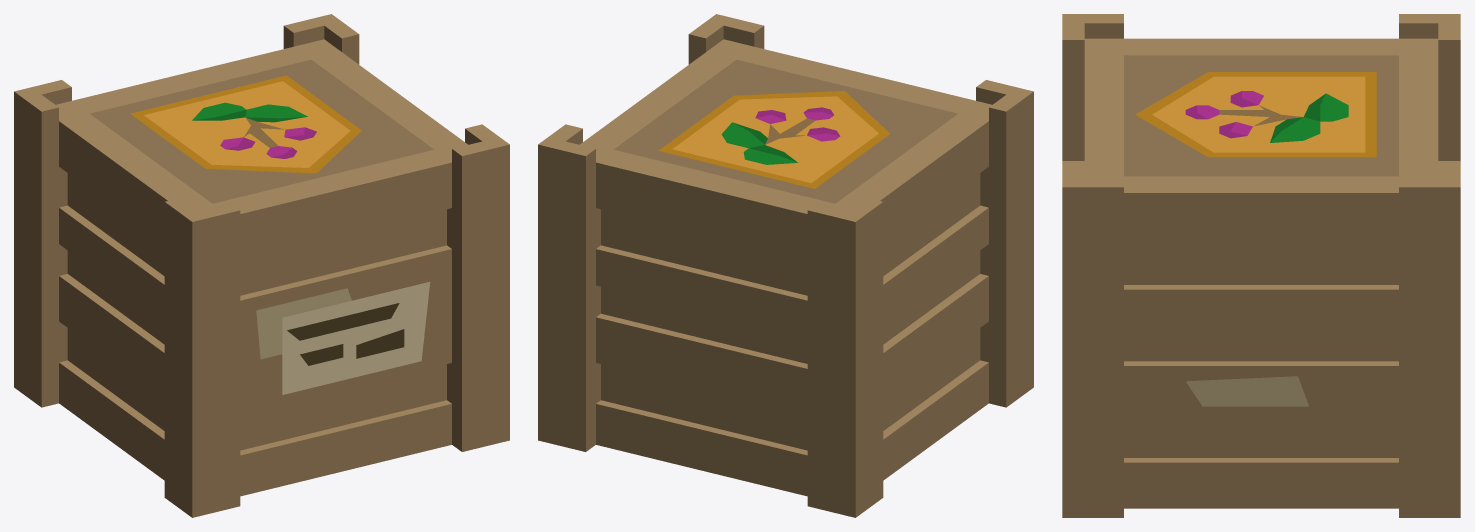
The picture shows the model from 3 angles, left to right: view 1: azimuth 30°, elevation 25°; view 2: azimuth 150°, elevation 25°; view 3: azimuth 270°, elevation 25°; orthographic projection. The views are drawn at different scales.
Bounding box in the file's own units: 73 × 65 × 71.
Materials: 1 (1 with a texture image).
